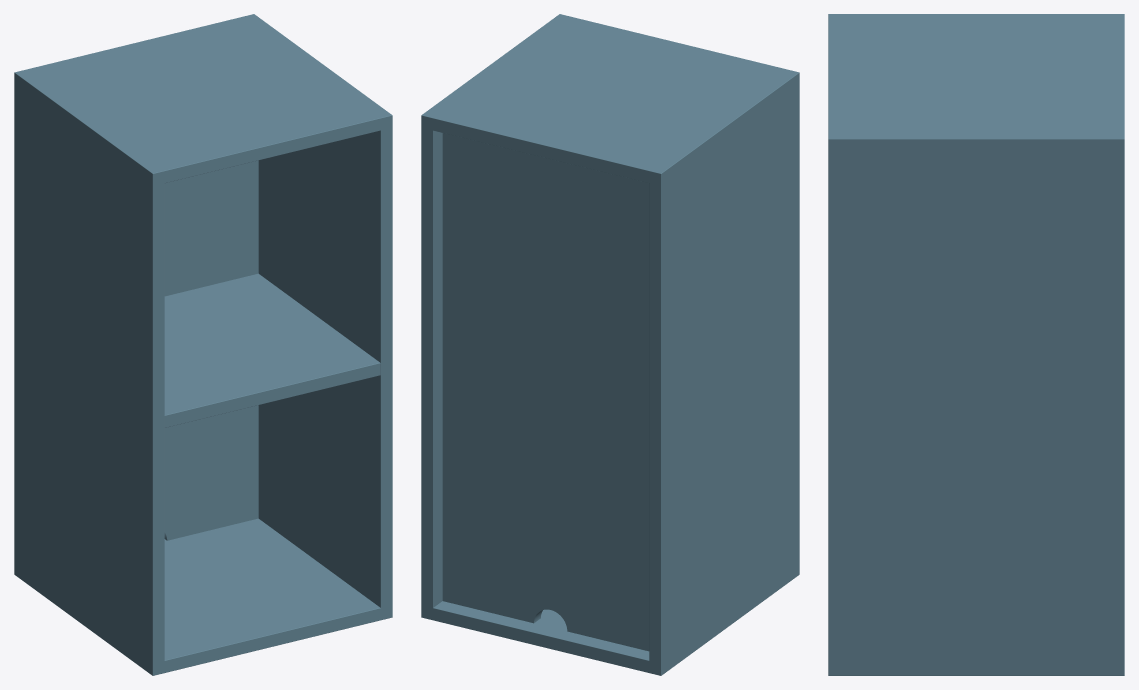
File: MOD-1X2-S-B-AP-AC.glb
3 renders of one model, left to right at view 1: azimuth 30°, elevation 25°; view 2: azimuth 150°, elevation 25°; view 3: azimuth 270°, elevation 25°, orthographic. The views are drawn at different scales.
Size of the model in its own units: 360 by 720 by 360.
